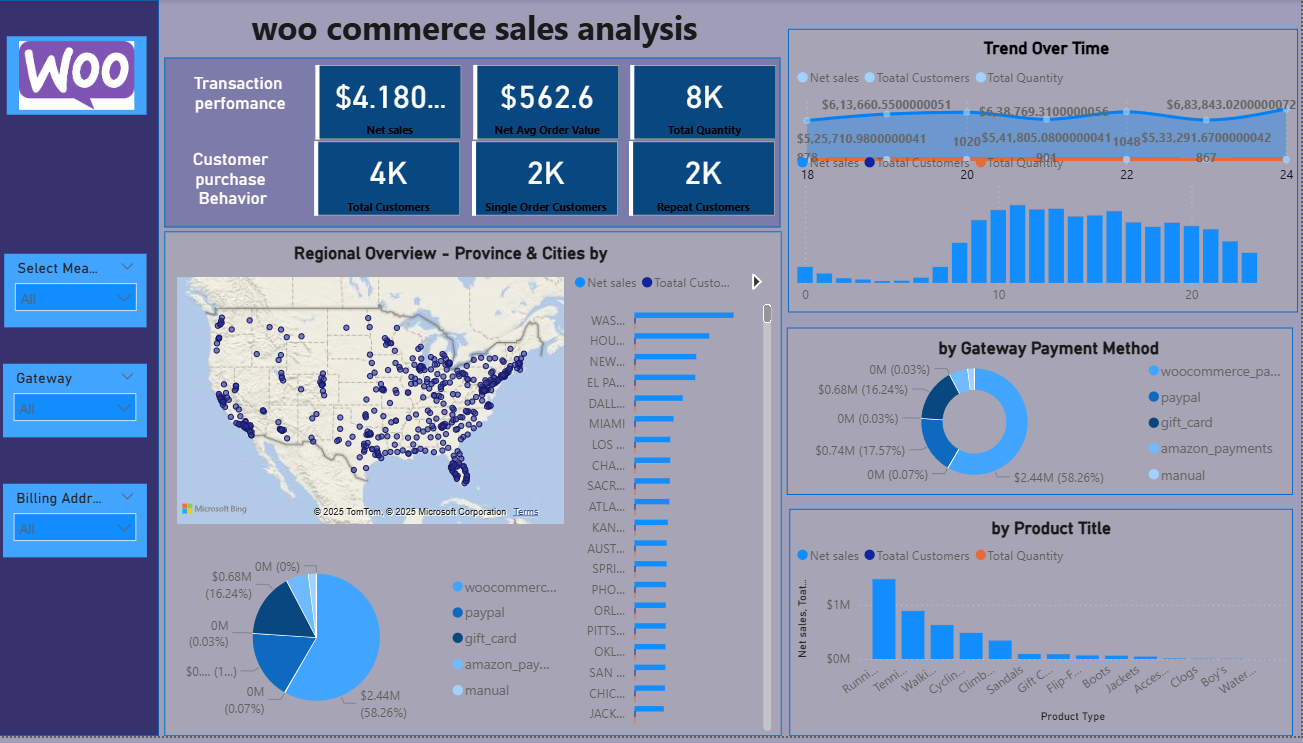

This screenshot's page, from the dashboard's own definition file:
{"tool":"powerbi","page":{"name":"woo sales dashboard","canvas":[1280,720],"ordinal":0},"visuals":[{"type":"textbox","box":[179.8,0,601.6,58.7],"z":0},{"type":"shape","box":[0,0,162.6,720.2],"z":1000},{"type":"shape","box":[167.5,56.3,602.9,166.3],"z":2000},{"type":"cardVisual","fields":{"Data":["woo_sales_data.Net sales","woo_sales_data.Net Avg Order Value","woo_sales_data.Total Quantity"]},"box":[310.6,58.7,461,83.2],"z":3000},{"type":"card","fields":{"Values":["woo_sales_data.Transaction Pref"]},"box":[174.9,56.3,134.5,70.9],"z":4000},{"type":"cardVisual","fields":{"Data":["woo_sales_data.Toatal Customers","woo_sales_data.Single Order Customers","woo_sales_data.Repeat Customers"]},"box":[309.4,133.3,461,83.2],"z":5000},{"type":"card","fields":{"Values":["woo_sales_data.Customer purchase Behavior"]},"box":[160.2,112.5,149.2,124.7],"z":6000},{"type":"map","fields":{"Category":["woo_sales_data.Location"]},"box":[174.9,266.6,388.9,250.7],"z":7000},{"type":"shape","box":[167.5,226.2,604.1,494],"z":8000},{"type":"slicer","fields":{"Values":["Select Measure.Select Measure"]},"box":[11,248.2,139.4,72.1],"z":9000},{"type":"clusteredBarChart","fields":{"Y":["woo_sales_data.Net sales","woo_sales_data.Toatal Customers","woo_sales_data.Total Quantity"],"Category":["woo_sales_data.CITY"]},"box":[563.7,256.8,203,463.5],"z":10000},{"type":"card","fields":{"Values":["Select Measure.Map Title"]},"box":[162.6,233.6,571.1,29.3],"z":11000},{"type":"shape","box":[777.7,28.1,498.9,277.6],"z":12000},{"type":"areaChart","fields":{"Y":["woo_sales_data.Net sales","woo_sales_data.Toatal Customers","woo_sales_data.Total Quantity"],"Category":["woo_sales_data.Invoice Date.Variation.Date Hierarchy.Day"]},"box":[781.4,56.3,498.9,133.3],"z":13000},{"type":"columnChart","fields":{"Y":["woo_sales_data.Net sales","woo_sales_data.Toatal Customers","woo_sales_data.Total Quantity"],"Category":["woo_sales_data.Hour"]},"box":[781.4,139.4,498.9,167.5],"z":14000},{"type":"card","fields":{"Values":["Select Measure.Trend Title"]},"box":[805.8,28.1,450,39.1],"z":15000},{"type":"shape","box":[776.5,320.4,495.2,163.9],"z":16000},{"type":"donutChart","fields":{"Y":["woo_sales_data.Net sales","woo_sales_data.Toatal Customers","woo_sales_data.Total Quantity"],"Category":["woo_sales_data.Gateway"]},"box":[786.3,341.2,494,143.1],"z":17000},{"type":"card","fields":{"Values":["Select Measure.Gateway Title"]},"box":[842.5,321.6,376.6,39.1],"z":18000},{"type":"shape","box":[778.9,497.7,492.8,222.6],"z":19000},{"type":"columnChart","fields":{"Y":["woo_sales_data.Net sales","woo_sales_data.Toatal Customers","woo_sales_data.Total Quantity"],"Category":["woo_sales_data.Product Type"]},"box":[781.4,523.4,487.9,188.3],"z":20000},{"type":"card","fields":{"Values":["Select Measure.Product Title"]},"box":[786.3,502.6,494,29.3],"z":21000},{"type":"image","box":[13.5,35.5,137,77],"z":22000},{"type":"slicer","fields":{"Values":["woo_sales_data.Gateway"]},"box":[9.8,355.8,140.6,72.1],"z":23000},{"type":"slicer","fields":{"Values":["woo_sales_data.Billing Address Province"]},"box":[9.8,473.2,140.6,72.1],"z":24000},{"type":"pieChart","fields":{"Category":["woo_sales_data.Gateway"],"Y":["woo_sales_data.Net sales","woo_sales_data.Toatal Customers","woo_sales_data.Total Quantity"]},"box":[179.8,535.6,387.6,176.1],"z":25000}]}

Visuals, with their boxes in screenshot pixels (x1, y1, x2, y2), scaled from the page's 1280x720 canvas onto the 1303x743 screenshot:
textbox: [183, 0, 795, 61]
shape: [0, 0, 166, 742]
shape: [171, 58, 784, 230]
cardVisual - woo_sales_data.Net sales x woo_sales_data.Net Avg Order Value: [316, 61, 785, 146]
card - woo_sales_data.Transaction Pref: [178, 58, 315, 131]
cardVisual - woo_sales_data.Toatal Customers x woo_sales_data.Single Order Customers: [315, 138, 784, 223]
card - woo_sales_data.Customer purchase Behavior: [163, 116, 315, 245]
map - woo_sales_data.Location: [178, 275, 574, 534]
shape: [171, 233, 785, 742]
slicer - Select Measure.Select Measure: [11, 256, 153, 331]
clusteredBarChart - woo_sales_data.Net sales x woo_sales_data.Toatal Customers: [574, 265, 780, 742]
card - Select Measure.Map Title: [166, 241, 747, 271]
shape: [792, 29, 1300, 315]
areaChart - woo_sales_data.Net sales x woo_sales_data.Toatal Customers: [795, 58, 1302, 196]
columnChart - woo_sales_data.Net sales x woo_sales_data.Toatal Customers: [795, 144, 1302, 317]
card - Select Measure.Trend Title: [820, 29, 1278, 69]
shape: [790, 331, 1295, 500]
donutChart - woo_sales_data.Net sales x woo_sales_data.Toatal Customers: [800, 352, 1302, 500]
card - Select Measure.Gateway Title: [858, 332, 1241, 372]
shape: [793, 514, 1295, 742]
columnChart - woo_sales_data.Net sales x woo_sales_data.Toatal Customers: [795, 540, 1292, 734]
card - Select Measure.Product Title: [800, 519, 1302, 549]
image: [14, 37, 153, 116]
slicer - woo_sales_data.Gateway: [10, 367, 153, 442]
slicer - woo_sales_data.Billing Address Province: [10, 488, 153, 563]
pieChart - woo_sales_data.Gateway x woo_sales_data.Net sales: [183, 553, 578, 734]
